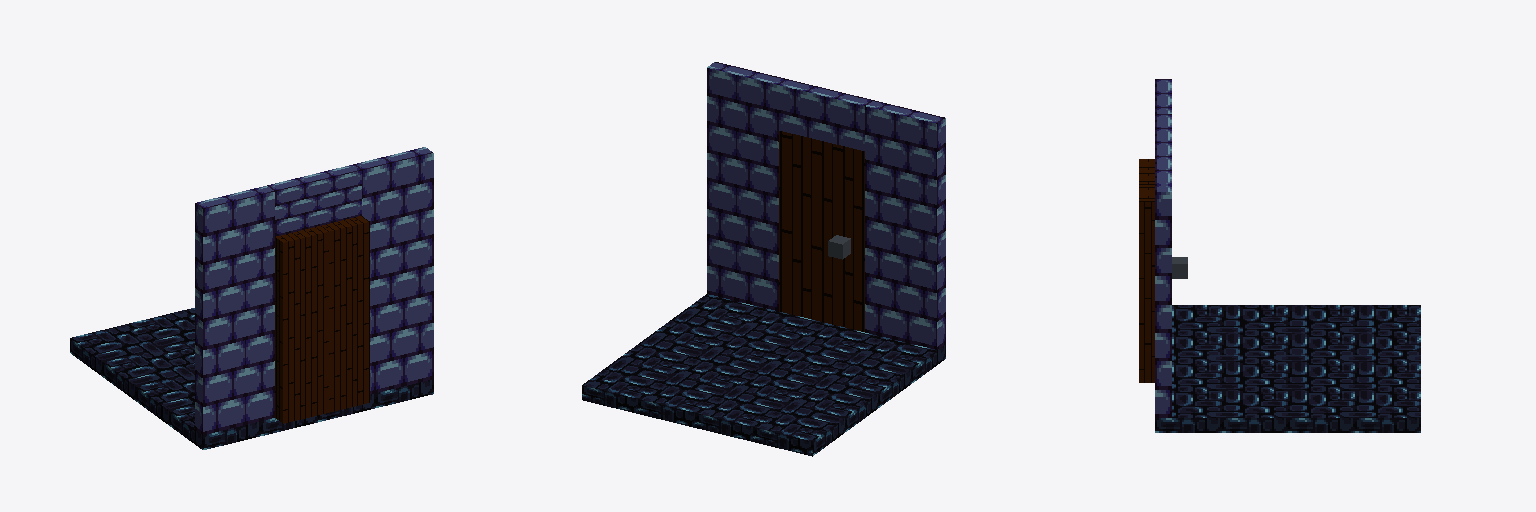
The picture shows the model from 3 angles: view 1: azimuth 30°, elevation 25°; view 2: azimuth 150°, elevation 25°; view 3: azimuth 270°, elevation 25°; orthographic projection.
Parts seen in each view (by area): view 1: wall, door, floor; view 2: wall, floor, door; view 3: floor, wall, door.
Part boxes in pixels (x1,y1,x2,y2): wall: (195, 147, 433, 434); door: (275, 216, 369, 423); floor: (70, 308, 433, 449); wall: (707, 62, 945, 349); floor: (582, 294, 945, 456); door: (779, 131, 864, 331); floor: (1155, 305, 1420, 432); wall: (1155, 79, 1171, 417); door: (1139, 159, 1154, 382).
Bounding box in the file's own units: 16 × 16 × 17.
Materials: 4 (4 with a texture image).